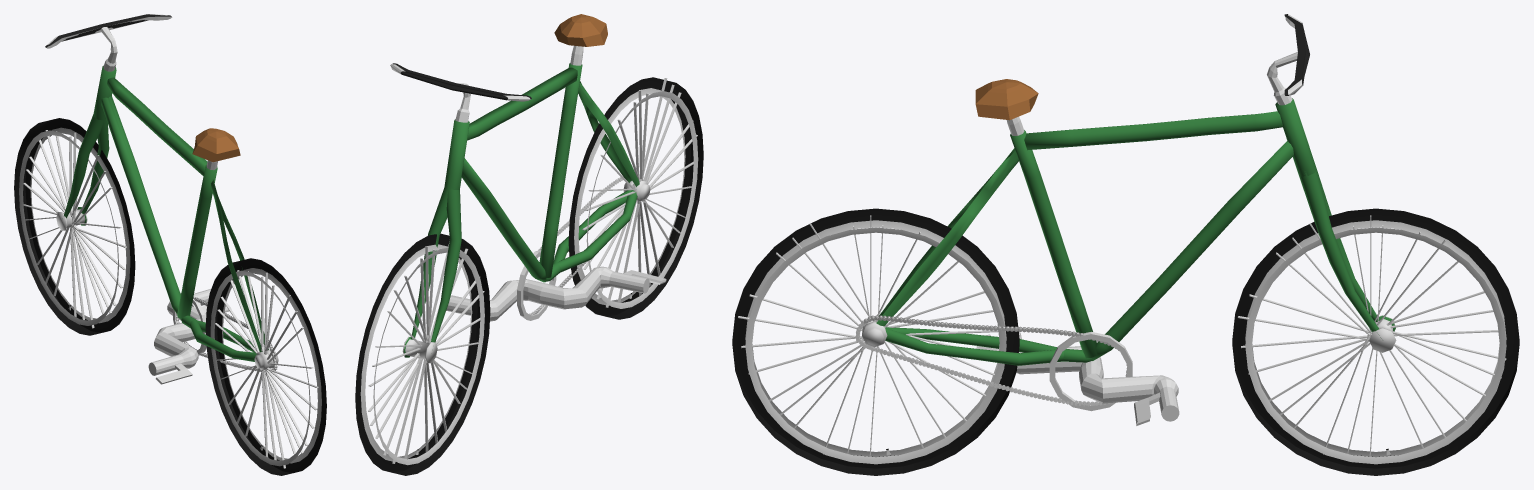
The model's file is Bicycle.fbx.
3 renders of one model, left to right at view 1: azimuth 30°, elevation 25°; view 2: azimuth 150°, elevation 25°; view 3: azimuth 270°, elevation 25°, orthographic. The views are drawn at different scales.
Parts seen in each view (by area): view 1: Body, Tires|TireFront|Dupli|, Tires.001|TireFront|Dupli|, Pedal, Styre, Sadel, CykelKedja; view 2: Body, Tires.001|TireFront|Dupli|, Tires|TireFront|Dupli|, Pedal, Styre, Sadel, CykelKedja; view 3: Body, Tires.001|TireFront|Dupli|, Tires|TireFront|Dupli|, Pedal, CykelKedja, Sadel, Styre.
Part boxes in pixels (bbox=[...]): Body: bbox=[56, 66, 278, 369]; Tires|TireFront|Dupli|: bbox=[205, 258, 326, 475]; Tires.001|TireFront|Dupli|: bbox=[14, 118, 135, 335]; Pedal: bbox=[148, 289, 231, 384]; Styre: bbox=[45, 14, 217, 170]; Sadel: bbox=[192, 128, 240, 162]; CykelKedja: bbox=[176, 297, 277, 371]; Body: bbox=[402, 63, 650, 363]; Tires.001|TireFront|Dupli|: bbox=[355, 233, 490, 475]; Tires|TireFront|Dupli|: bbox=[568, 77, 703, 319]; Pedal: bbox=[446, 250, 666, 321]; Styre: bbox=[390, 45, 583, 122]; Sadel: bbox=[554, 14, 607, 46]; CykelKedja: bbox=[520, 174, 639, 315]; Body: bbox=[862, 98, 1396, 365]; Tires.001|TireFront|Dupli|: bbox=[1232, 208, 1519, 475]; Tires|TireFront|Dupli|: bbox=[732, 208, 1019, 475]; Pedal: bbox=[976, 331, 1179, 425]; CykelKedja: bbox=[855, 315, 1129, 406]; Sadel: bbox=[975, 79, 1038, 120]; Styre: bbox=[1006, 14, 1309, 135].
Size of the model in its own units: 93.36 by 219 by 371.
